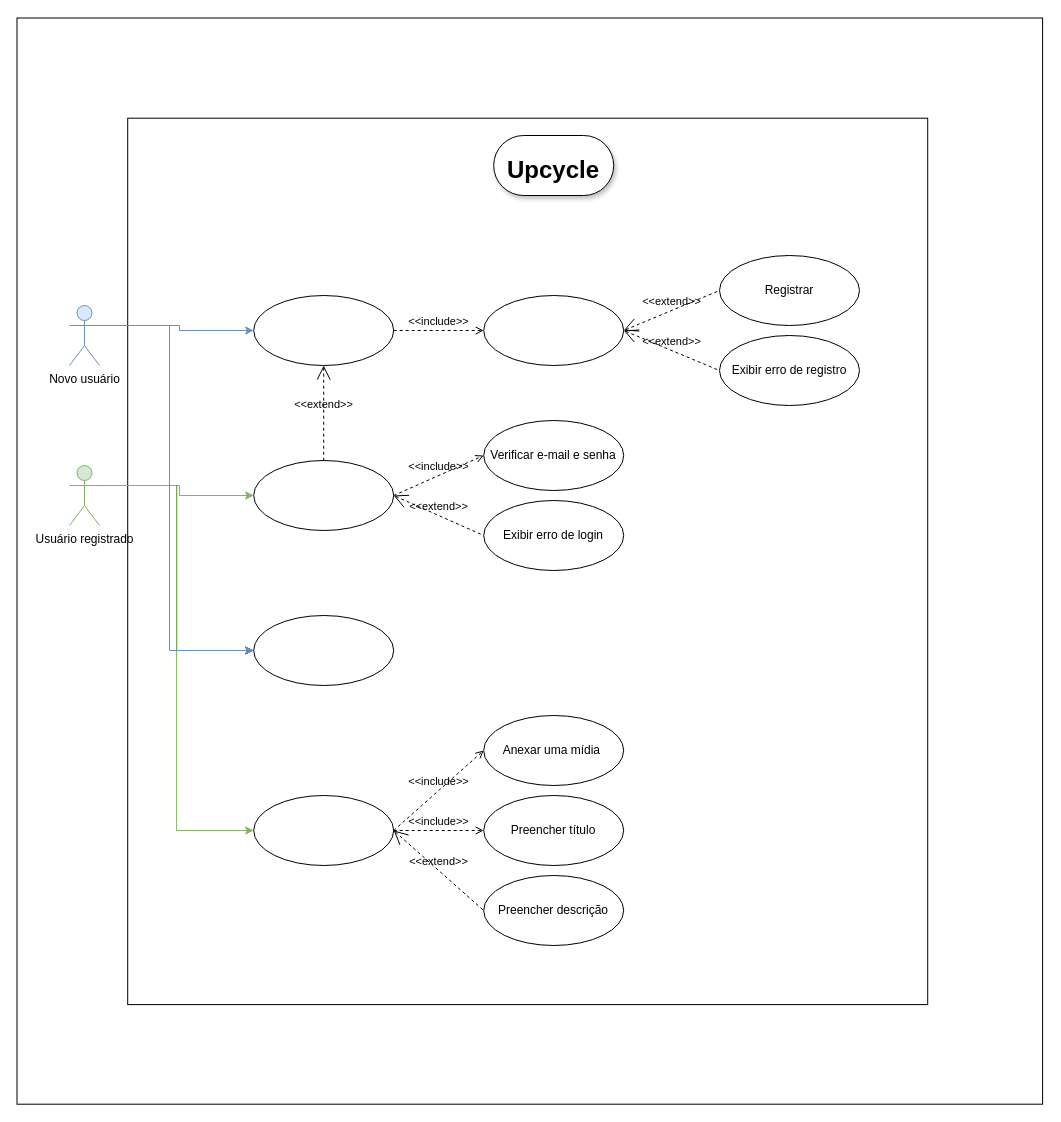
Image size: 1061x1122. Some labels were removed from this diagram. Here are the shapes that lost their labels. From the top down, the centre of each, then its label:
At point 323,330: "Registrar-se na plataforma".
At point 553,330: "Verificar se o e-mail já está cadastrado".
At point 323,495: "Fazer login".
At point 323,650: "Visualizar postagens".
At point 323,830: "Criar uma postagem".
